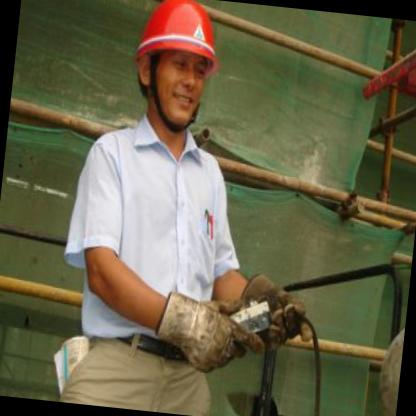helmet: (108, 0, 237, 147)
